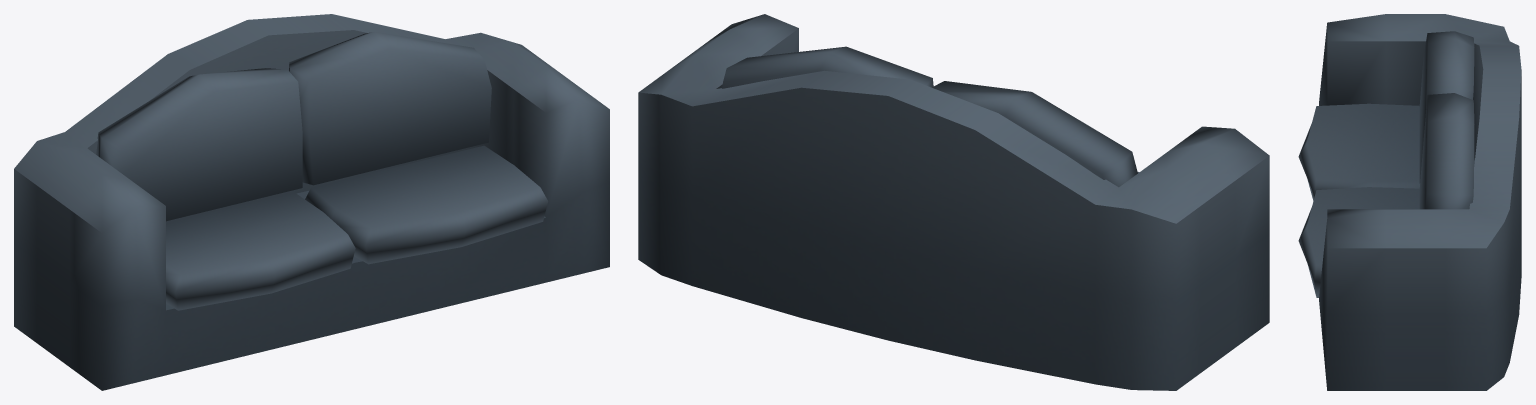
Rendered from Prop_Couch01.fbx.
3 views of the same model, side by side, from view 1: azimuth 30°, elevation 25°; view 2: azimuth 150°, elevation 25°; view 3: azimuth 270°, elevation 25° (orthographic). The views are drawn at different scales.
Parts seen in each view (by area): view 1: Prop_CouchFrame, Prop_CouchCusion04, Prop_CouchCusion03, Prop_CouchCusion02, Prop_CouchCusion01; view 2: Prop_CouchFrame, Prop_CouchCusion03, Prop_CouchCusion04; view 3: Prop_CouchFrame, Prop_CouchCusion01, Prop_CouchCusion04, Prop_CouchCusion02, Prop_CouchCusion03.
Boxes of the visible parts, <box> form: Prop_CouchFrame: <box>14,14,609,390</box>; Prop_CouchCusion04: <box>289,31,491,185</box>; Prop_CouchCusion03: <box>96,68,302,221</box>; Prop_CouchCusion02: <box>305,145,548,264</box>; Prop_CouchCusion01: <box>166,192,355,310</box>; Prop_CouchFrame: <box>638,14,1269,390</box>; Prop_CouchCusion03: <box>932,81,1137,187</box>; Prop_CouchCusion04: <box>722,46,933,88</box>; Prop_CouchFrame: <box>1319,14,1521,390</box>; Prop_CouchCusion01: <box>1298,103,1419,200</box>; Prop_CouchCusion04: <box>1419,93,1474,209</box>; Prop_CouchCusion02: <box>1298,187,1419,297</box>; Prop_CouchCusion03: <box>1419,31,1474,183</box>.
Size of the model in its own units: 600 by 261 by 252.
